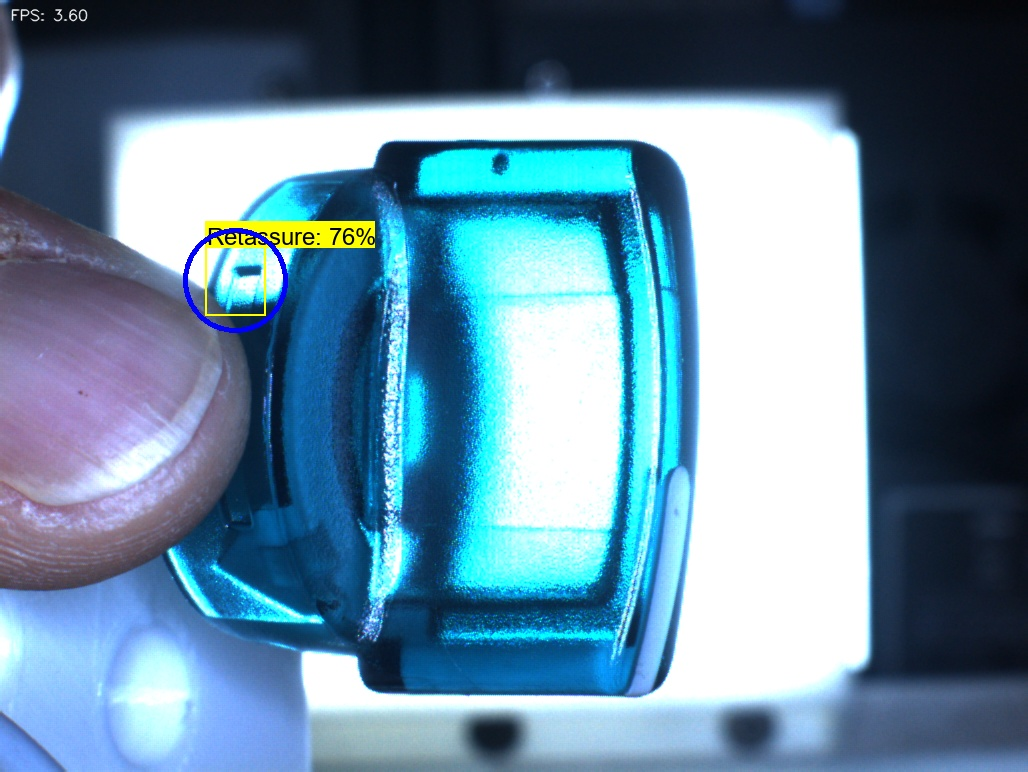Bulle: (465, 118, 541, 213)
